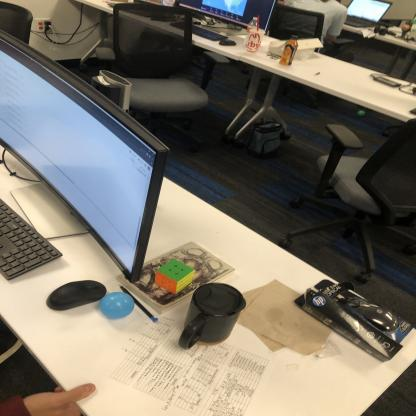SolvedCube: (156, 255, 200, 297)
